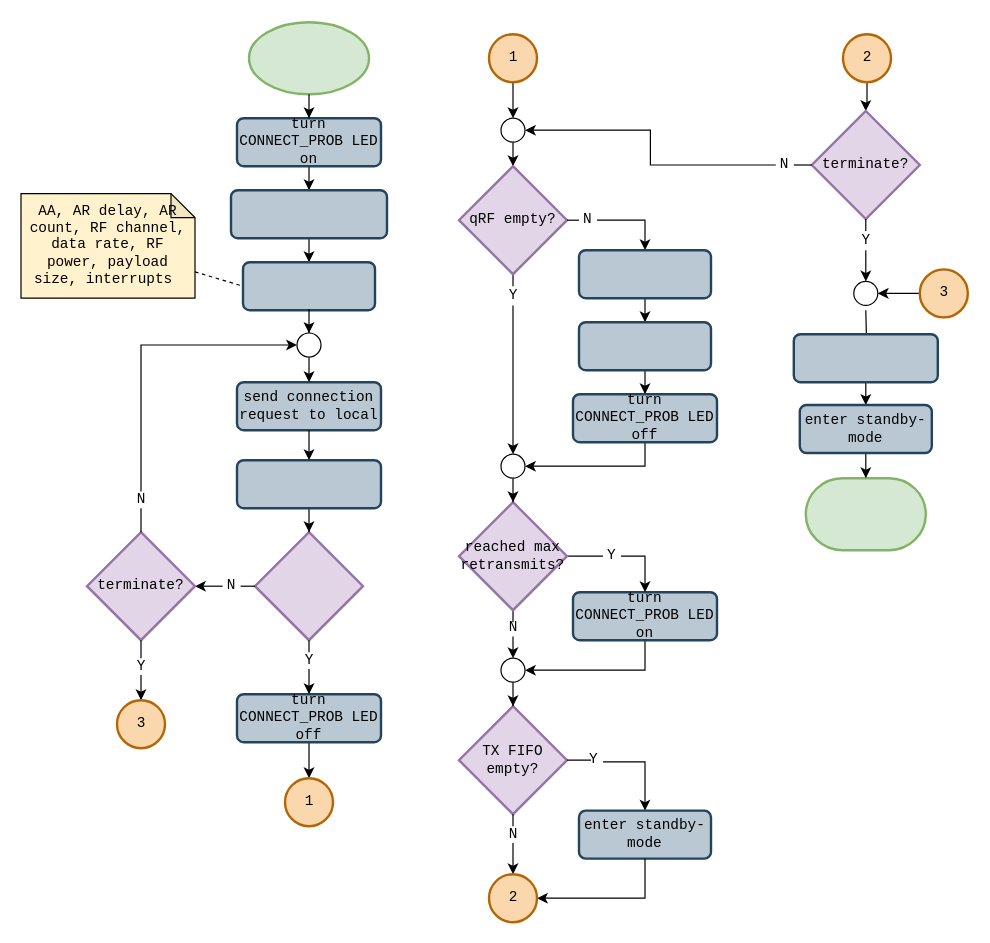
This 990x943 diagram has some shape labels left out. Each missing label, with the centre of its shape:
"await response" goes at (x=308, y=483).
"close connection with local" goes at (x=865, y=357).
"configure RF module hardware" goes at (x=308, y=285).
"dequeue one message and send" goes at (x=644, y=345).
"End" goes at (x=865, y=513).
"exit stand-by mode" goes at (x=644, y=273).
"init SPI interface and GPIO" goes at (x=308, y=213).
"received response?" goes at (x=308, y=585).
"Start" goes at (x=308, y=57).
